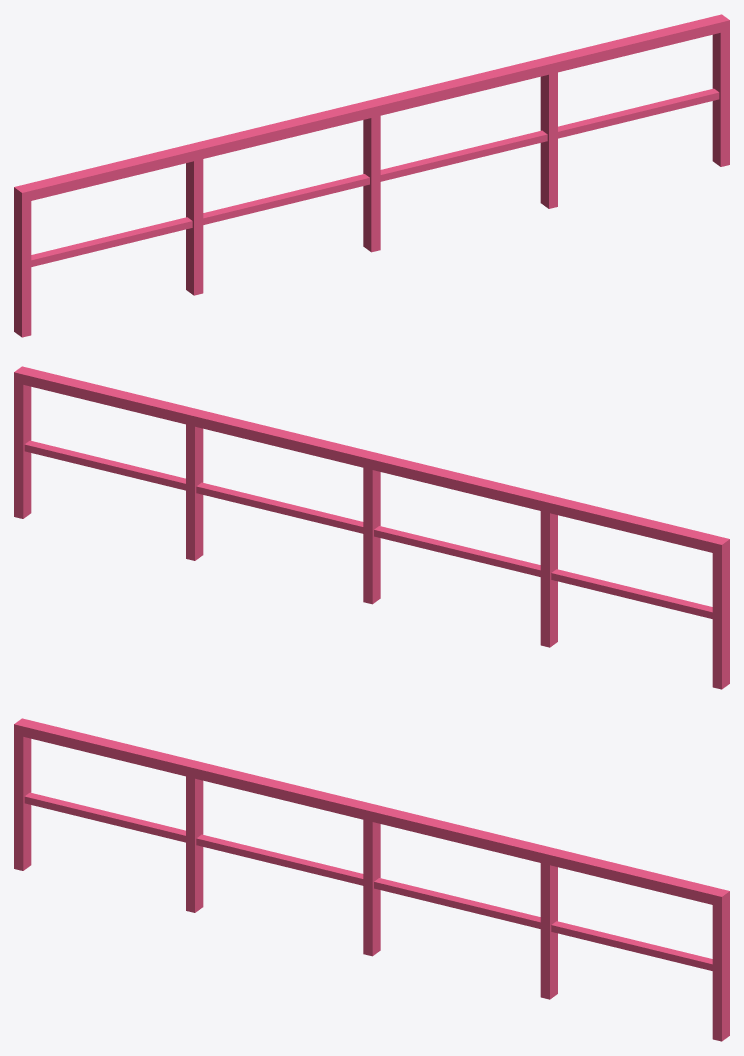
The model's file is Partitions_091.glb.
The picture shows the model from 3 angles, top to bottom: view 1: azimuth 30°, elevation 25°; view 2: azimuth 150°, elevation 25°; view 3: azimuth 330°, elevation 25°; orthographic projection.
Visible parts, largest first — view 1: Partitions_091; view 2: Partitions_091; view 3: Partitions_091.
Part boxes in pixels (x1=…): Partitions_091: x1=14, y1=14, x2=729, y2=337; Partitions_091: x1=14, y1=366, x2=729, y2=689; Partitions_091: x1=14, y1=718, x2=729, y2=1041.
Bounding box in the file's own units: 4 × 0.781 × 0.0793.
1 material, 1 textured.
